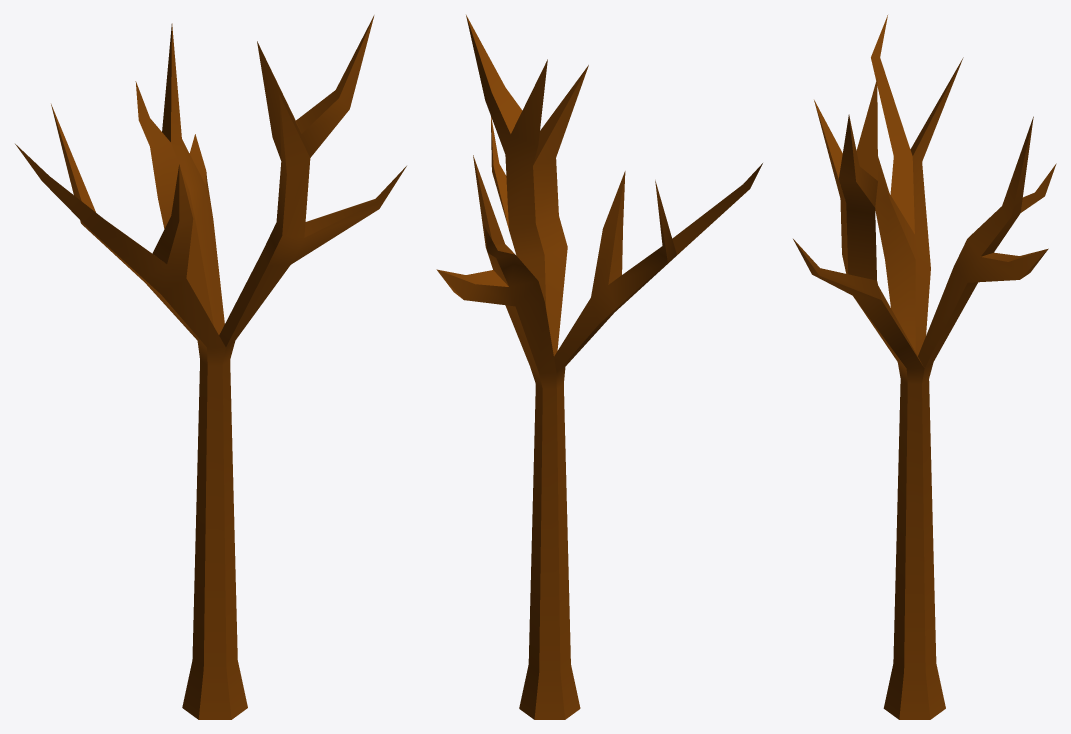
The model's file is TreeWinter2.fbx.
The picture shows the model from 3 angles, left to right: view 1: azimuth 30°, elevation 25°; view 2: azimuth 150°, elevation 25°; view 3: azimuth 270°, elevation 25°; orthographic projection. The views are drawn at different scales.
Parts seen in each view (by area): view 1: TreeWinter2; view 2: TreeWinter2; view 3: TreeWinter2.
Boxes of the visible parts, box(x1,y1,x2,y2) form: TreeWinter2: box(15, 15, 406, 719); TreeWinter2: box(436, 15, 762, 719); TreeWinter2: box(793, 15, 1056, 719).
Size of the model in its own units: 1203 by 2308 by 848.
